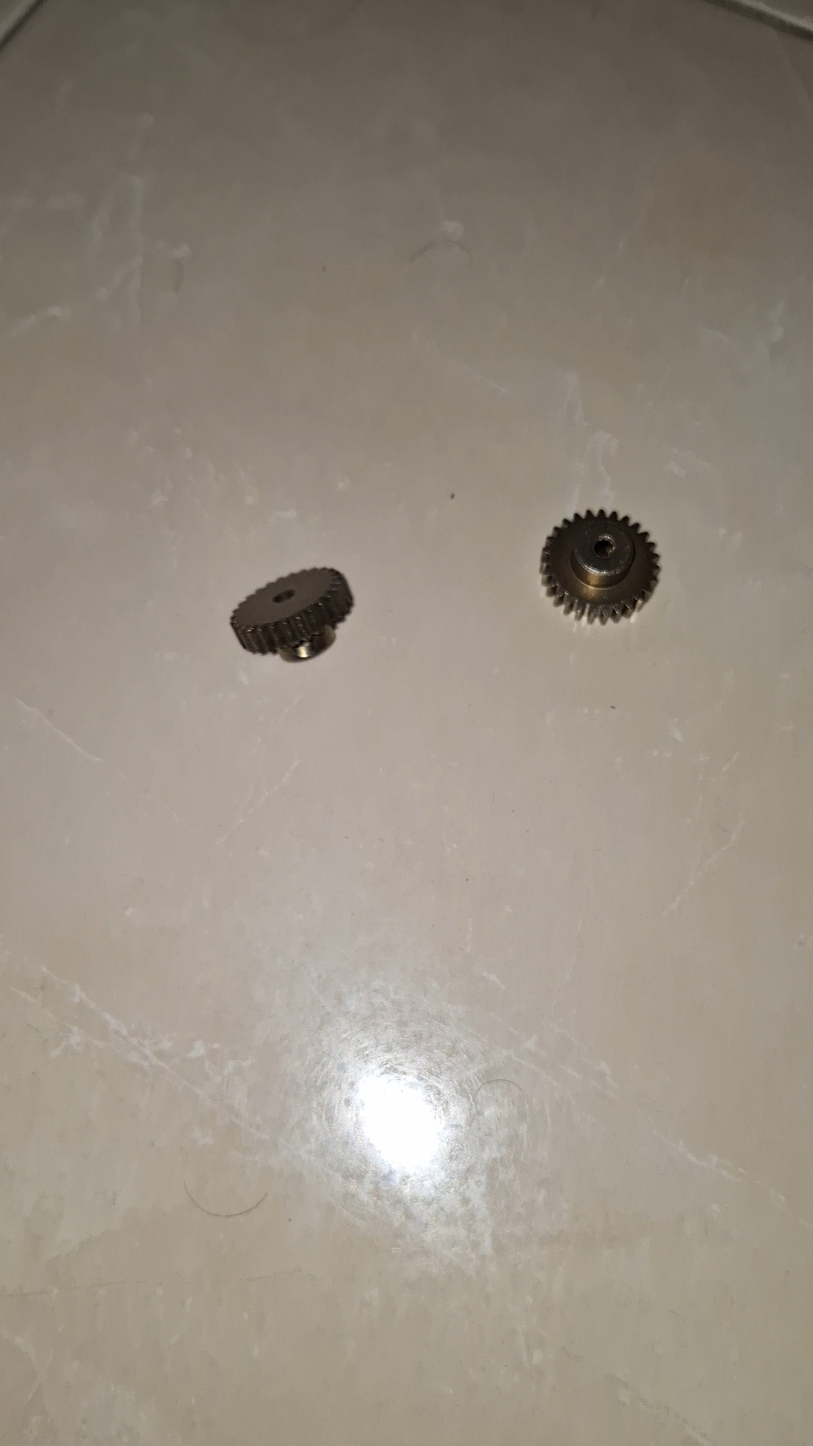spur gear: (540, 510, 659, 622), (231, 569, 353, 660)
